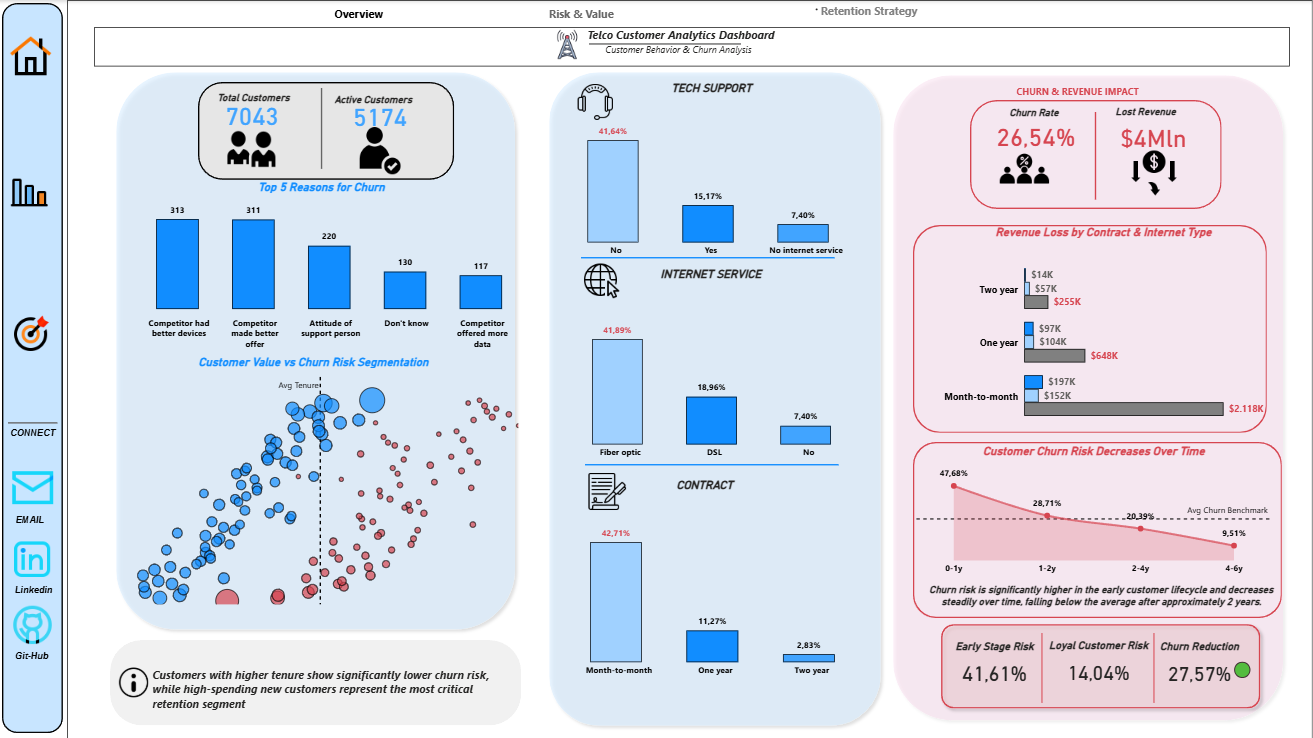

What the dashboard file says about the page in this screenshot:
{"tool":"powerbi","page":{"name":"Overview","canvas":[1920,1080],"ordinal":0},"visuals":[{"type":"shape","box":[102.5,0,1817.3,1080.2],"z":0},{"type":"shape","box":[141.8,39.3,1744.6,57.5],"z":1000},{"type":"textbox","box":[851.8,35.7,307.1,32.1],"z":2000},{"type":"shape","box":[6.7,4,88.9,1065.2],"z":3000},{"type":"textbox","box":[487,4.3,87,31.9],"z":4000},{"type":"textbox","box":[679.7,4.7,345.3,34.4],"z":5000},{"type":"textbox","box":[1054.8,0,417.3,58.4],"z":6000},{"type":"image","box":[804.3,37.7,56.5,53.6],"z":7000},{"type":"textbox","box":[871.4,58.9,246.4,30.4],"z":8000},{"type":"image","box":[11.5,52.5,75.4,60.7],"z":9000},{"type":"image","box":[14.8,459,68.9,55.7],"z":10000},{"type":"image","box":[13.1,254.1,68.9,54.1],"z":11000},{"type":"shape","box":[15.9,589.9,72.5,55.1],"z":12000},{"type":"shape","box":[863.8,55.1,221.7,17.4],"z":13000},{"type":"image","box":[11.6,678.3,81.2,65.2],"z":14000},{"type":"image","box":[7.2,787,88.4,59.4],"z":15000},{"type":"image","box":[7.2,881.2,88.4,60.9],"z":16000},{"type":"textbox","box":[8.7,617.4,87,27.5],"z":17000},{"type":"textbox","box":[9.8,743.9,75.8,26.7],"z":18000},{"type":"textbox","box":[11.6,846.4,84.1,29],"z":19000},{"type":"textbox","box":[8.7,942,84.1,29],"z":20000},{"type":"shape","box":[165.6,96.7,600,831.1],"z":21000},{"type":"shape","box":[293.4,119.7,373.8,142.6],"z":22000},{"type":"image","box":[331.1,182,80.3,70.5],"z":23000},{"type":"shape","box":[459,127.9,27.9,118],"z":24000},{"type":"card","fields":{"Values":["Misure.Clienti attuali"]},"box":[501.6,134.4,113.1,67.2],"z":25000},{"type":"shape","box":[1298.4,100,586.9,959],"z":26000},{"type":"clusteredBarChart","title":"Revenue Loss by Contract & Internet Type","fields":{"Category":["telco chast.contract"],"Y":["Misure.Lost Revenue"],"Series":["telco service.internet_type"]},"box":[1375.4,327.9,477,318],"z":27000},{"type":"shape","box":[1419.7,145.9,367.2,159],"z":28000},{"type":"shape","box":[1596.7,163.9,13.1,127.9],"z":29000},{"type":"card","fields":{"Values":["Misure.Churn rate %"]},"box":[1429.5,134.4,172.1,124.6],"z":30000},{"type":"image","box":[518,185.2,82,68.9],"z":31000},{"type":"image","box":[1459,209.8,80.3,72.1],"z":32000},{"type":"image","box":[1649.2,218,78.7,70.5],"z":33000},{"type":"card","fields":{"Values":["Misure.Lost Revenue"]},"box":[1582,134.4,211.5,127.9],"z":34000},{"type":"columnChart","title":"Top 5 Reasons for Churn ","fields":{"Category":["telco status.churn_reason"],"Y":["Misure.Top 5 Reasons for Churn"]},"box":[156.1,262.6,634.7,255.3],"z":35000},{"type":"shape","box":[796.8,96.8,501.6,971.4],"z":36000},{"type":"columnChart","fields":{"Y":["Misure.Churn rate %"],"Category":["telco chast.contract"]},"box":[803.3,747.5,488.5,249.2],"z":37000},{"type":"columnChart","fields":{"Y":["Misure.Churn rate %"],"Category":["telco chast.internet_service"]},"box":[808.3,450.8,477.1,227.6],"z":38000},{"type":"columnChart","fields":{"Y":["Misure.Churn rate %"],"Category":["telco chast.tech_support"]},"box":[801,160.5,481.5,223.2],"z":39000},{"type":"textbox","box":[978.7,113.1,150.8,32.8],"z":40000},{"type":"textbox","box":[962.3,385.2,196.7,49.2],"z":41000},{"type":"textbox","box":[986.9,693.4,134.4,63.9],"z":42000},{"type":"textbox","box":[315.9,128.6,142.9,36.5],"z":43000},{"type":"textbox","box":[487.3,131.7,144.4,55.6],"z":44000},{"type":"textbox","box":[1472.1,150.8,142.6,54.1],"z":45000},{"type":"textbox","box":[1626.2,149.2,123,34.4],"z":46000},{"type":"card","fields":{"Values":["Misure.Churn Drop Icon"]},"box":[1786.9,955.7,59,44.3],"z":47000},{"type":"areaChart","title":"Customer Churn Risk Decreases Over Time","fields":{"Category":["telco chast.tenure_group"],"Y":["Misure.Churn rate %"]},"box":[1336.1,647.5,527.9,200],"z":48000},{"type":"shape","box":[1368.9,901.6,483.6,141],"z":49000},{"type":"textbox","box":[1348.8,846.2,526.2,82.5],"z":50000},{"type":"card","title":"Early Stage Risk","fields":{"Values":["Misure.Churn Early Stage %"]},"box":[1368.9,934.4,173.8,77],"z":51000},{"type":"card","title":"Loyal Customer Risk","fields":{"Values":["Misure.Churn Long Term %"]},"box":[1519.7,932.8,173.8,77],"z":52000},{"type":"card","title":"Churn Reduction","fields":{"Values":["Misure.Churn Drop %"]},"box":[1688.5,934.4,132.8,77],"z":53000},{"type":"shape","box":[165.6,934.4,600,124.6],"z":54000},{"type":"card","fields":{"Values":["Misure.Total Customer"]},"box":[316.4,132.8,111.5,67.2],"z":55000},{"type":"scatterChart","title":"Customer Value vs Churn Risk Segmentation","fields":{"X":["Misure.Average Monthly Charges"],"Y":["telco chast.tenure_months"],"Series":["telco chast.churn_label"],"Size":["Sum(telco chast.cltv)"]},"box":[157.4,518,608.2,368.9],"z":56000},{"type":"textbox","box":[221.3,968.9,531.1,90.2],"z":57000},{"type":"shape","box":[857.4,655.7,370.5,45.9],"z":58000},{"type":"shape","box":[852.5,352.5,370.5,45.9],"z":59000},{"type":"image","box":[860.7,690.2,59,54.1],"z":60000},{"type":"image","box":[842.6,123,59,54.1],"z":61000},{"type":"image","box":[852.5,382,59,54.1],"z":62000},{"type":"shape","box":[1472.1,923,104.9,101.6],"z":63000},{"type":"shape","box":[1636.1,923,104.9,101.6],"z":64000},{"type":"textbox","box":[1482,119.7,216.4,41],"z":65000},{"type":"image","box":[165.6,972.1,68.9,47.5],"z":66000},{"type":"shape","box":[1336.4,328.3,516.5,303.5],"z":67000},{"type":"shape","box":[1336.4,644.9,538.4,256.8],"z":68000}]}

Visuals, with their boxes on the page's 1920x1080 design canvas (x1, y1, x2, y2). These are canvas units, not pixel positions in the 1313x738 screenshot, which may show the page scaled, cropped or inside an application window:
shape: <bbox>102, 0, 1920, 1080</bbox>
shape: <bbox>142, 39, 1886, 97</bbox>
textbox: <bbox>852, 36, 1159, 68</bbox>
shape: <bbox>7, 4, 96, 1069</bbox>
textbox: <bbox>487, 4, 574, 36</bbox>
textbox: <bbox>680, 5, 1025, 39</bbox>
textbox: <bbox>1055, 0, 1472, 58</bbox>
image: <bbox>804, 38, 861, 91</bbox>
textbox: <bbox>871, 59, 1118, 89</bbox>
image: <bbox>12, 52, 87, 113</bbox>
image: <bbox>15, 459, 84, 515</bbox>
image: <bbox>13, 254, 82, 308</bbox>
shape: <bbox>16, 590, 88, 645</bbox>
shape: <bbox>864, 55, 1086, 72</bbox>
image: <bbox>12, 678, 93, 744</bbox>
image: <bbox>7, 787, 96, 846</bbox>
image: <bbox>7, 881, 96, 942</bbox>
textbox: <bbox>9, 617, 96, 645</bbox>
textbox: <bbox>10, 744, 86, 771</bbox>
textbox: <bbox>12, 846, 96, 875</bbox>
textbox: <bbox>9, 942, 93, 971</bbox>
shape: <bbox>166, 97, 766, 928</bbox>
shape: <bbox>293, 120, 667, 262</bbox>
image: <bbox>331, 182, 411, 252</bbox>
shape: <bbox>459, 128, 487, 246</bbox>
card - Misure.Clienti attuali: <bbox>502, 134, 615, 202</bbox>
shape: <bbox>1298, 100, 1885, 1059</bbox>
"Revenue Loss by Contract & Internet Type" clusteredBarChart: <bbox>1375, 328, 1852, 646</bbox>
shape: <bbox>1420, 146, 1787, 305</bbox>
shape: <bbox>1597, 164, 1610, 292</bbox>
card - Misure.Churn rate %: <bbox>1430, 134, 1602, 259</bbox>
image: <bbox>518, 185, 600, 254</bbox>
image: <bbox>1459, 210, 1539, 282</bbox>
image: <bbox>1649, 218, 1728, 288</bbox>
card - Misure.Lost Revenue: <bbox>1582, 134, 1794, 262</bbox>
"Top 5 Reasons for Churn " columnChart: <bbox>156, 263, 791, 518</bbox>
shape: <bbox>797, 97, 1298, 1068</bbox>
columnChart - Misure.Churn rate % x telco chast.contract: <bbox>803, 748, 1292, 997</bbox>
columnChart - Misure.Churn rate % x telco chast.internet_service: <bbox>808, 451, 1285, 678</bbox>
columnChart - Misure.Churn rate % x telco chast.tech_support: <bbox>801, 160, 1282, 384</bbox>
textbox: <bbox>979, 113, 1130, 146</bbox>
textbox: <bbox>962, 385, 1159, 434</bbox>
textbox: <bbox>987, 693, 1121, 757</bbox>
textbox: <bbox>316, 129, 459, 165</bbox>
textbox: <bbox>487, 132, 632, 187</bbox>
textbox: <bbox>1472, 151, 1615, 205</bbox>
textbox: <bbox>1626, 149, 1749, 184</bbox>
card - Misure.Churn Drop Icon: <bbox>1787, 956, 1846, 1000</bbox>
"Customer Churn Risk Decreases Over Time" areaChart: <bbox>1336, 648, 1864, 848</bbox>
shape: <bbox>1369, 902, 1852, 1043</bbox>
textbox: <bbox>1349, 846, 1875, 929</bbox>
"Early Stage Risk" card: <bbox>1369, 934, 1543, 1011</bbox>
"Loyal Customer Risk" card: <bbox>1520, 933, 1694, 1010</bbox>
"Churn Reduction" card: <bbox>1688, 934, 1821, 1011</bbox>
shape: <bbox>166, 934, 766, 1059</bbox>
card - Misure.Total Customer: <bbox>316, 133, 428, 200</bbox>
"Customer Value vs Churn Risk Segmentation" scatterChart: <bbox>157, 518, 766, 887</bbox>
textbox: <bbox>221, 969, 752, 1059</bbox>
shape: <bbox>857, 656, 1228, 702</bbox>
shape: <bbox>852, 352, 1223, 398</bbox>
image: <bbox>861, 690, 920, 744</bbox>
image: <bbox>843, 123, 902, 177</bbox>
image: <bbox>852, 382, 912, 436</bbox>
shape: <bbox>1472, 923, 1577, 1025</bbox>
shape: <bbox>1636, 923, 1741, 1025</bbox>
textbox: <bbox>1482, 120, 1698, 161</bbox>
image: <bbox>166, 972, 234, 1020</bbox>
shape: <bbox>1336, 328, 1853, 632</bbox>
shape: <bbox>1336, 645, 1875, 902</bbox>
